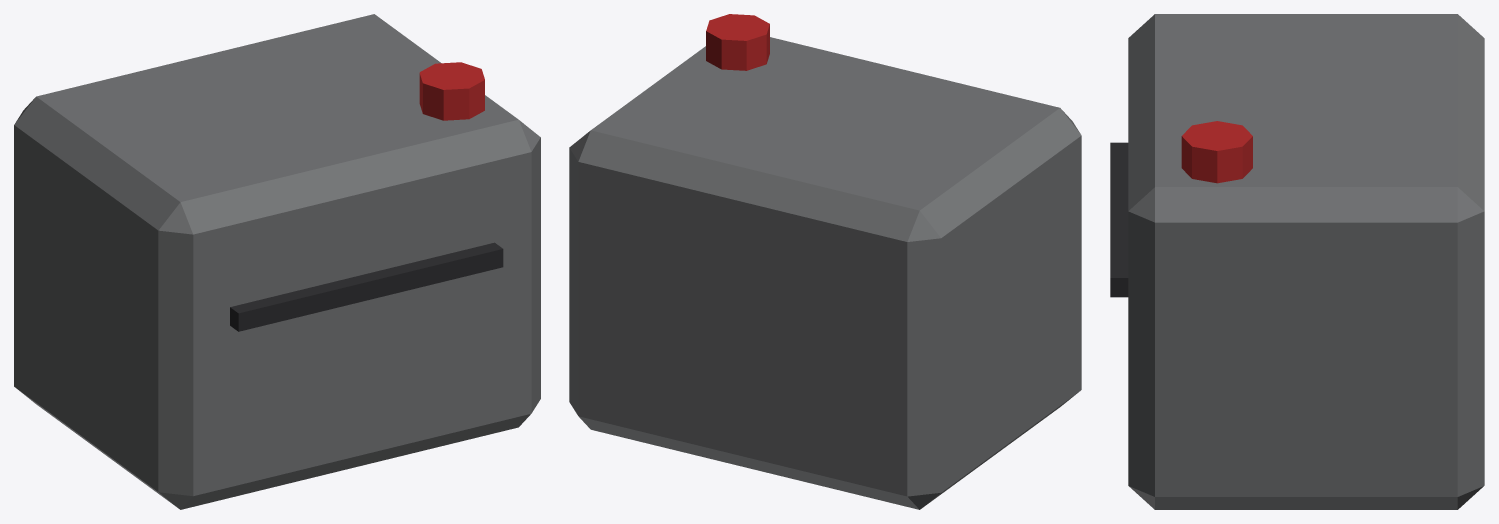
File: post-it-machine.glb
3 views of the same model, side by side, from view 1: azimuth 30°, elevation 25°; view 2: azimuth 150°, elevation 25°; view 3: azimuth 270°, elevation 25° (orthographic). The views are drawn at different scales.
Visible parts, largest first — view 1: postit_machine; view 2: postit_machine; view 3: postit_machine.
Part boxes in pixels (left/top/right/bottom): postit_machine: left=14, top=14, right=540, bottom=509; postit_machine: left=569, top=14, right=1081, bottom=509; postit_machine: left=1110, top=14, right=1484, bottom=509.
Bounding box in the file's own units: 0.26 × 0.22 × 0.21.
